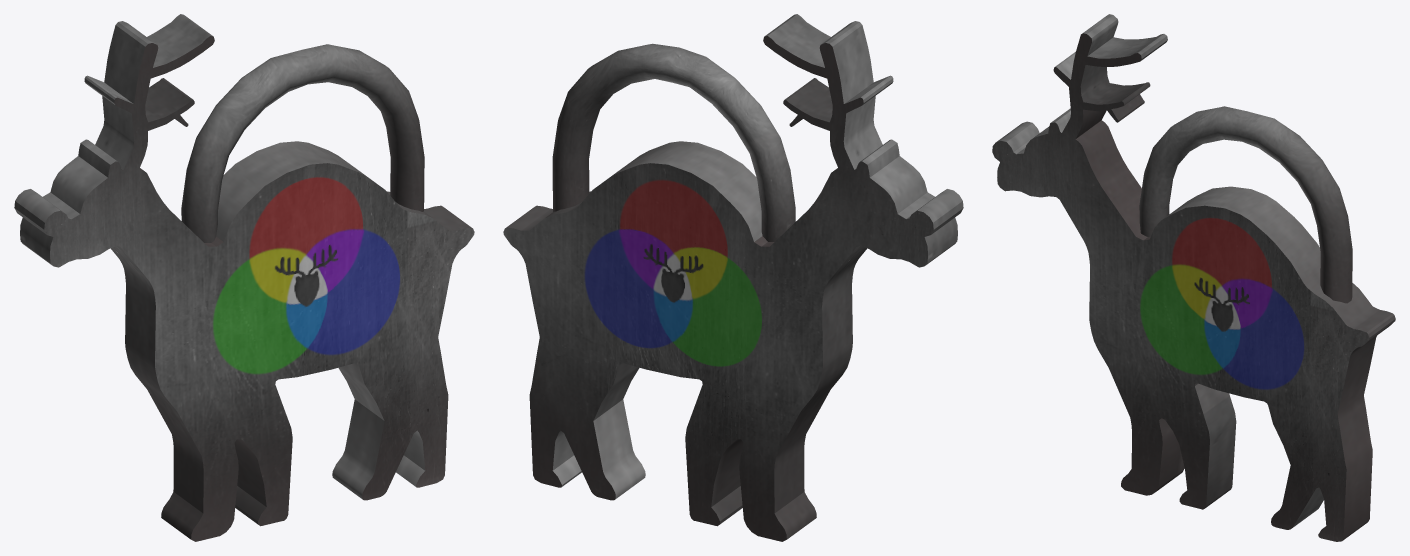
File: Lock.FBX
3 renders of one model, left to right at view 1: azimuth 30°, elevation 25°; view 2: azimuth 150°, elevation 25°; view 3: azimuth 330°, elevation 25°, orthographic. The views are drawn at different scales.
Parts seen in each view (by area): view 1: Tube003; view 2: Tube003; view 3: Tube003.
Boxes of the visible parts, x1,y1,x2,y2 form: Tube003: [14, 14, 474, 541]; Tube003: [503, 14, 963, 541]; Tube003: [992, 14, 1395, 541].
Bounding box in the file's own units: 11.5 × 13.03 × 1.38.
Materials: 1 (1 with a texture image).
